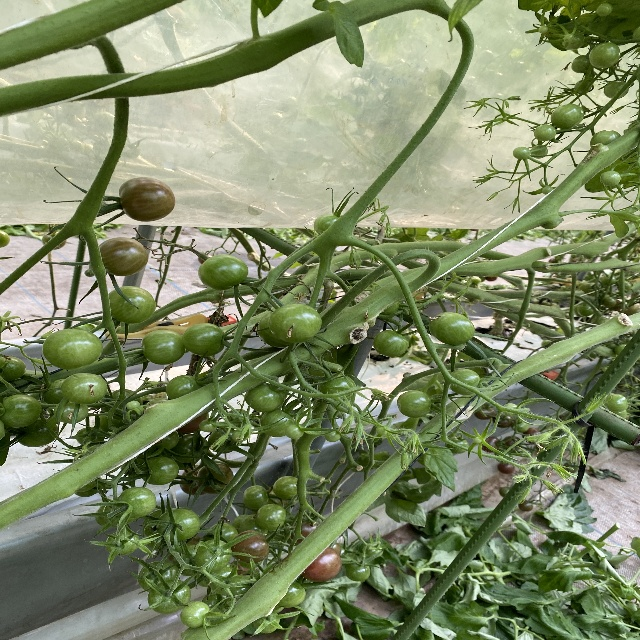l_fully_ripened: (301, 546, 341, 583)
l_green: (42, 329, 103, 370), (267, 303, 322, 344), (197, 254, 249, 291), (108, 286, 156, 323), (428, 312, 475, 346), (141, 330, 185, 365), (148, 580, 192, 615), (61, 373, 108, 405), (182, 322, 226, 356), (156, 508, 200, 541), (138, 560, 180, 593), (256, 312, 294, 348), (1, 395, 42, 428), (14, 419, 59, 448), (117, 487, 157, 519), (244, 382, 285, 413), (195, 539, 232, 572), (95, 499, 137, 527), (140, 456, 179, 485), (259, 409, 296, 438), (172, 434, 209, 462), (165, 375, 205, 400), (397, 390, 432, 418), (373, 330, 409, 357), (227, 575, 260, 603), (105, 530, 140, 556), (319, 376, 356, 400), (55, 398, 89, 424), (550, 103, 584, 129), (180, 600, 211, 628), (207, 567, 238, 595), (589, 42, 621, 69), (254, 504, 287, 530), (447, 369, 480, 395), (202, 591, 235, 617), (276, 581, 307, 608), (209, 427, 239, 454), (205, 523, 238, 547), (0, 356, 27, 382), (75, 426, 106, 448), (42, 379, 66, 407), (243, 485, 269, 510), (273, 476, 300, 500), (253, 611, 280, 633), (590, 130, 621, 149), (314, 215, 341, 236), (602, 80, 630, 99), (345, 562, 370, 582), (156, 431, 179, 449), (532, 124, 556, 141), (572, 55, 591, 74), (600, 171, 621, 186), (285, 424, 304, 440), (323, 428, 342, 442), (529, 145, 548, 159), (595, 2, 613, 16), (199, 419, 217, 432), (512, 147, 530, 159), (503, 403, 518, 417), (125, 400, 141, 411), (543, 185, 553, 195), (538, 25, 548, 34), (473, 436, 483, 444), (564, 34, 574, 41)
l_half_ripened: (118, 177, 176, 223), (99, 236, 149, 276), (230, 530, 270, 563), (196, 463, 234, 495), (179, 464, 206, 495)
